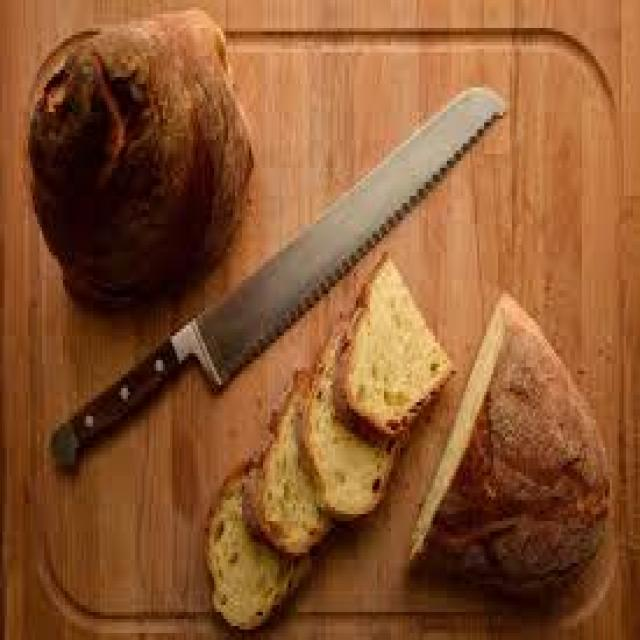Knife: (51, 87, 505, 465)
